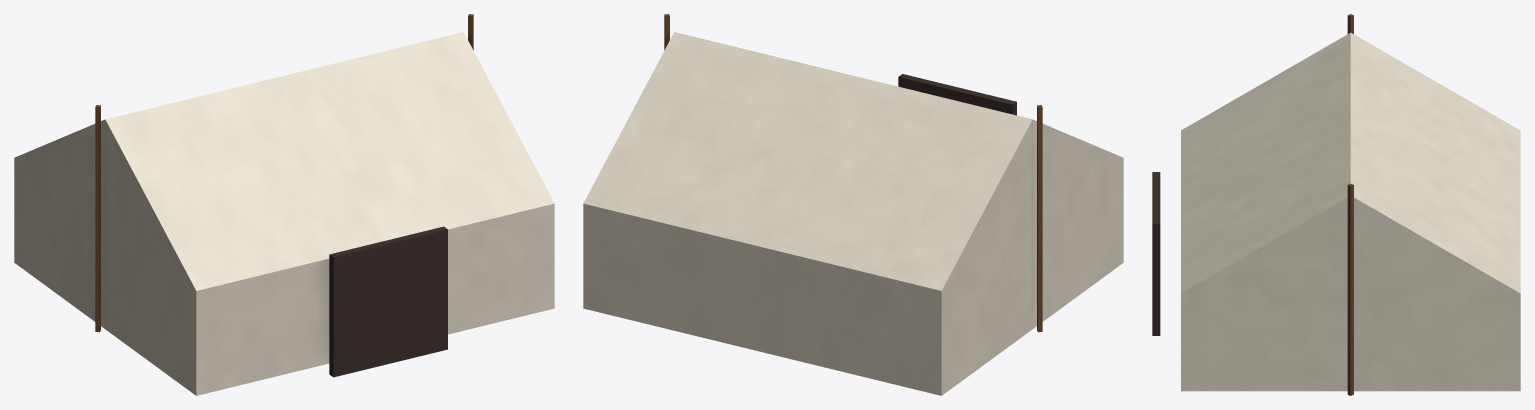
The model's file is talt_vit_tex.glb.
3 renders of one model, left to right at view 1: azimuth 30°, elevation 25°; view 2: azimuth 150°, elevation 25°; view 3: azimuth 270°, elevation 25°, orthographic. The views are drawn at different scales.
Parts seen in each view (by area): view 1: talt_vit; view 2: talt_vit; view 3: talt_vit.
Part boxes in pixels (bbox=[...]): talt_vit: bbox=[14, 14, 554, 395]; talt_vit: bbox=[583, 14, 1123, 395]; talt_vit: bbox=[1152, 14, 1520, 395].
Bounding box in the file's own units: 5.28 × 3 × 4.77.
3 materials, 2 textured.
